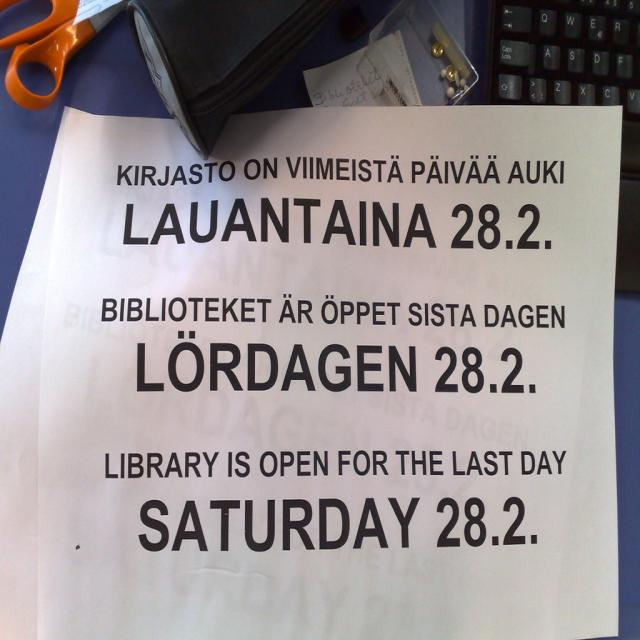scissors: (0, 0, 126, 110)
